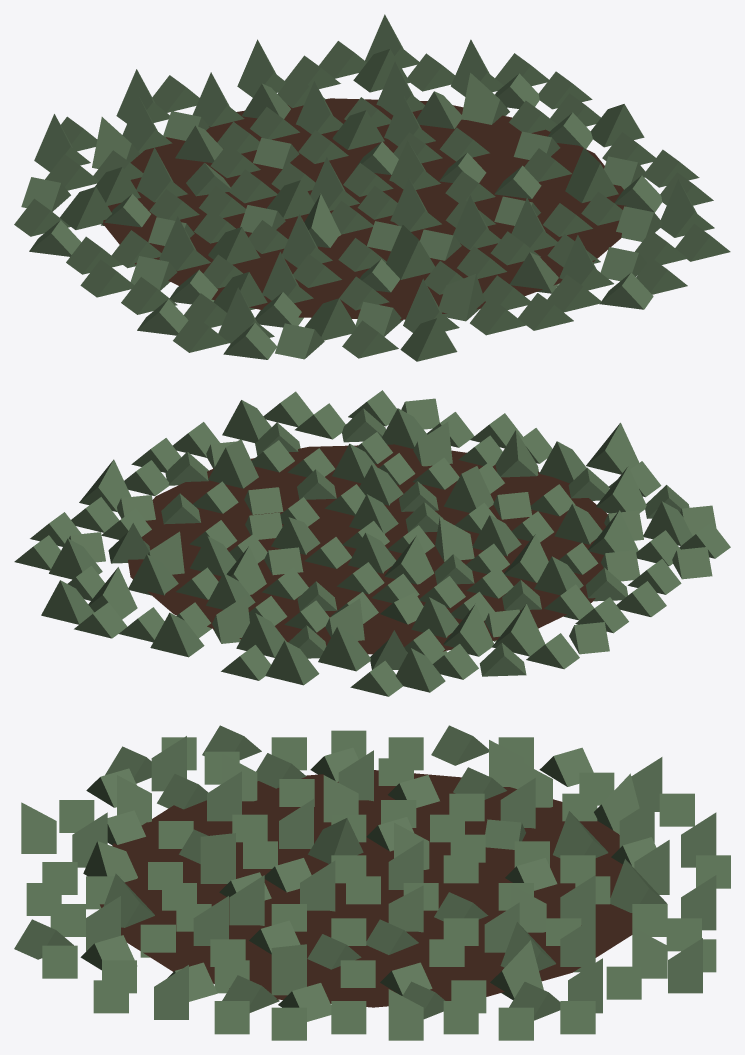
Rendered from Grass.fbx.
3 views of the same model, one above another, from view 1: azimuth 30°, elevation 25°; view 2: azimuth 150°, elevation 25°; view 3: azimuth 270°, elevation 25° (orthographic). The views are drawn at different scales.
Parts seen in each view (by area): view 1: Grass; view 2: Grass; view 3: Grass.
Part boxes in pixels (box(x1,y1,x2,y2)): Grass: box(14, 14, 730, 361); Grass: box(14, 390, 730, 696); Grass: box(14, 725, 730, 1040).
Size of the model in its own units: 202 by 14.11 by 204.
